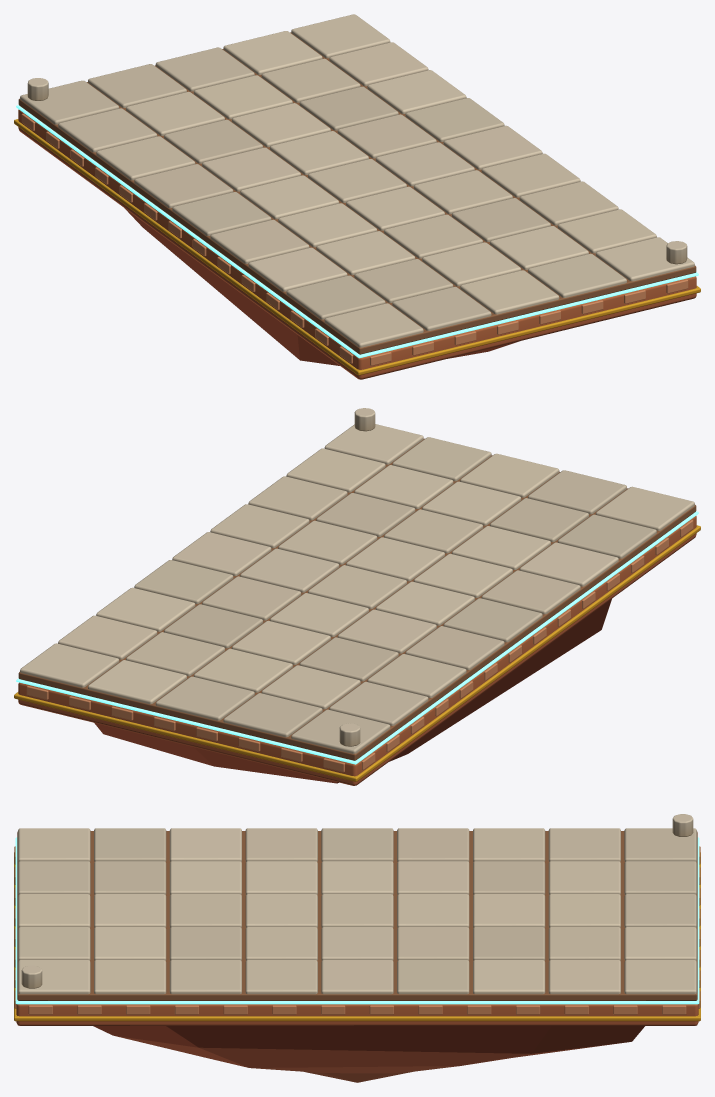
The model's file is PLAT_Ruin_XL.glb.
3 renders of one model, top to bottom at view 1: azimuth 30°, elevation 25°; view 2: azimuth 150°, elevation 25°; view 3: azimuth 270°, elevation 25°, orthographic.
Visible parts, largest first — view 1: Stone, EdgeGlow; view 2: Stone, EdgeGlow; view 3: Stone, EdgeGlow.
Part boxes in pixels (left/top/right/bottom): Stone: left=14, top=14, right=700, bottom=379; EdgeGlow: left=16, top=105, right=698, bottom=358; Stone: left=14, top=408, right=700, bottom=785; EdgeGlow: left=16, top=511, right=698, bottom=764; Stone: left=14, top=814, right=700, bottom=1082; EdgeGlow: left=15, top=837, right=699, bottom=1004.
Bounding box in the file's own units: 8.1 × 4.28 × 14.1.
